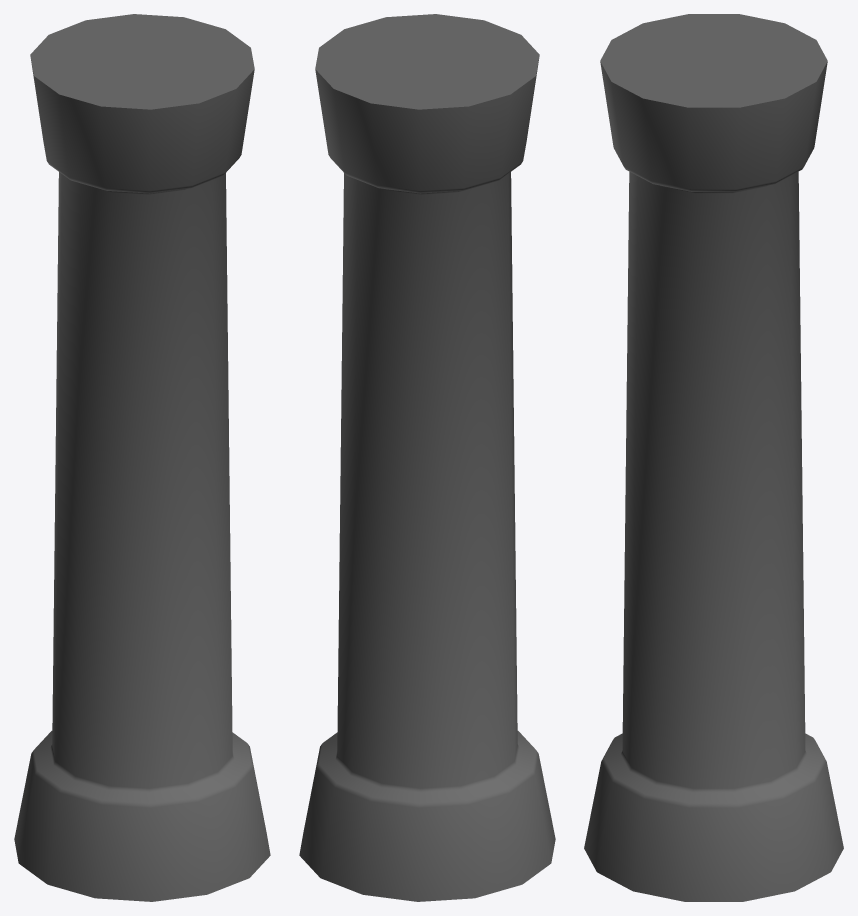
The model's file is pelar.fbx.
3 views of the same model, side by side, from view 1: azimuth 30°, elevation 25°; view 2: azimuth 150°, elevation 25°; view 3: azimuth 270°, elevation 25° (orthographic).
Visible parts, largest first — view 1: castle gate.002; view 2: castle gate.002; view 3: castle gate.002.
Boxes of the visible parts, x1,y1,x2,y2 form: castle gate.002: (14, 14, 270, 901); castle gate.002: (299, 14, 555, 901); castle gate.002: (584, 14, 843, 901).
Size of the model in its own units: 113 by 386 by 116.
